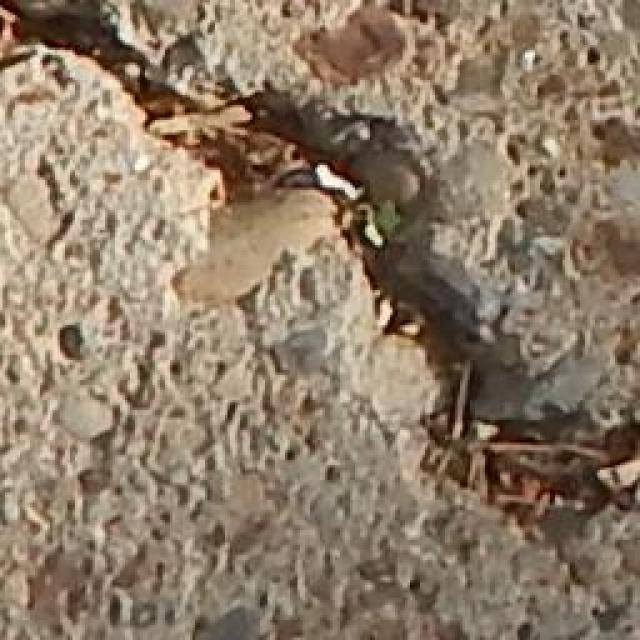concrete-crack: (0, 0, 640, 545)
